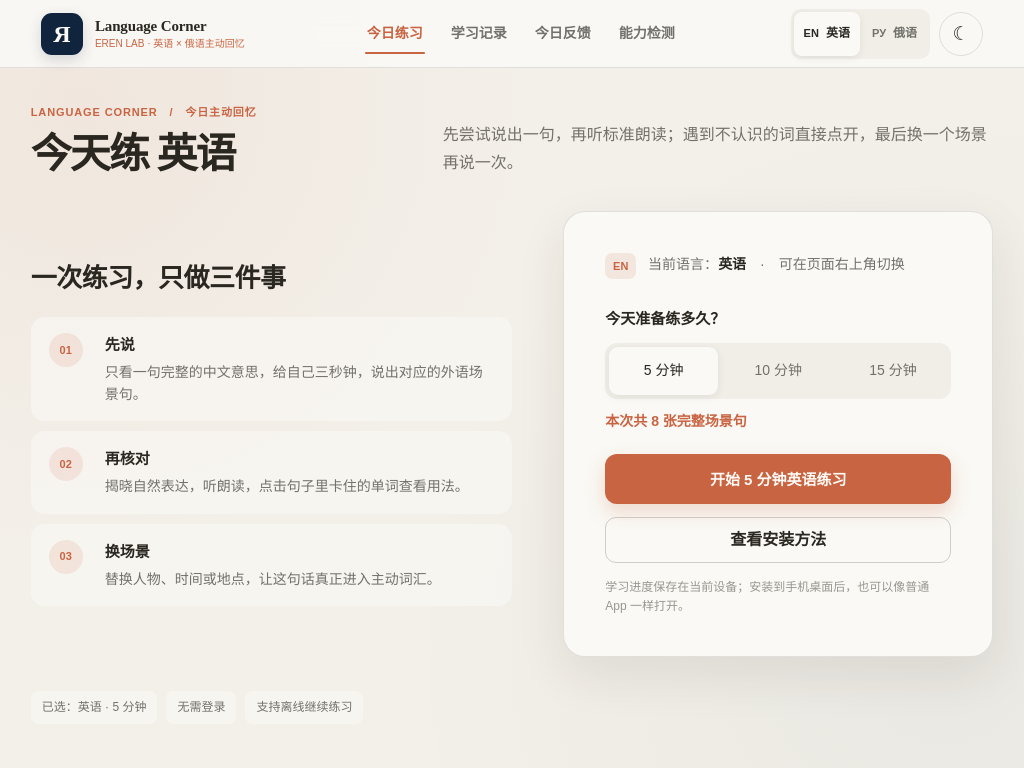
Scenario: Language Corner app › restores the saved queue, current index, and attempts for the same language and date
This screenshot has width=1024, height=768.
Click the button with aria-label "开始今天练习". click: (778,479)
box: [605, 454, 951, 504]
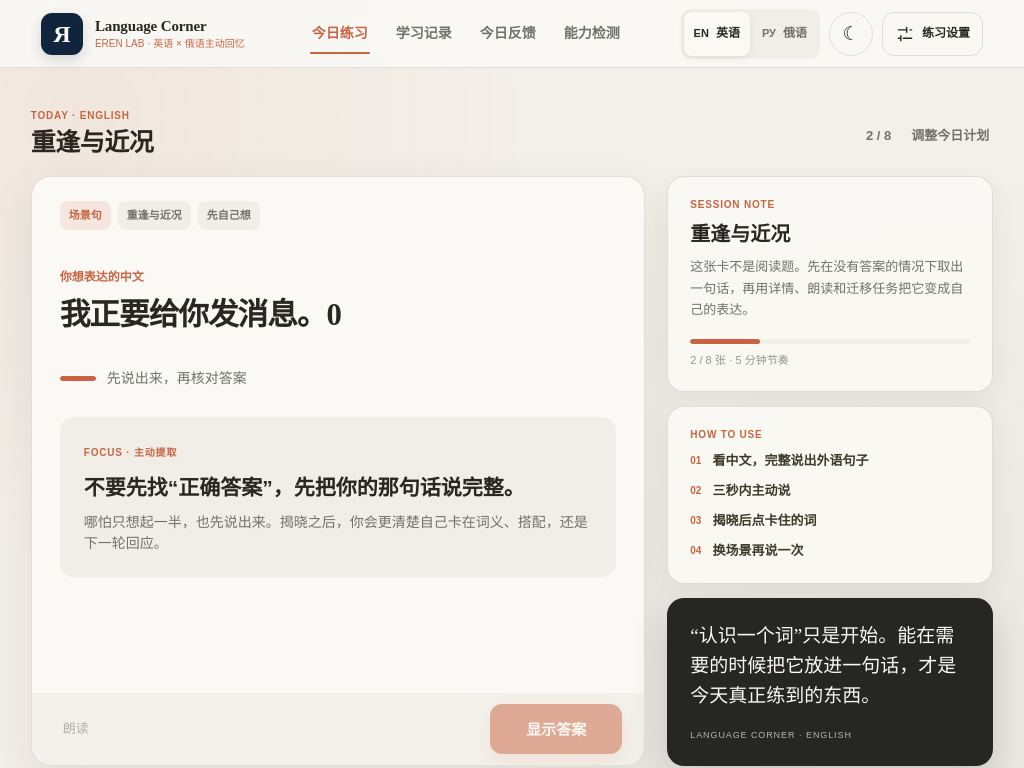
Expected: the text "场景句" is shown, [60, 201, 111, 230]
Expected: the text "2 / 8" is shown, [866, 126, 891, 146]
